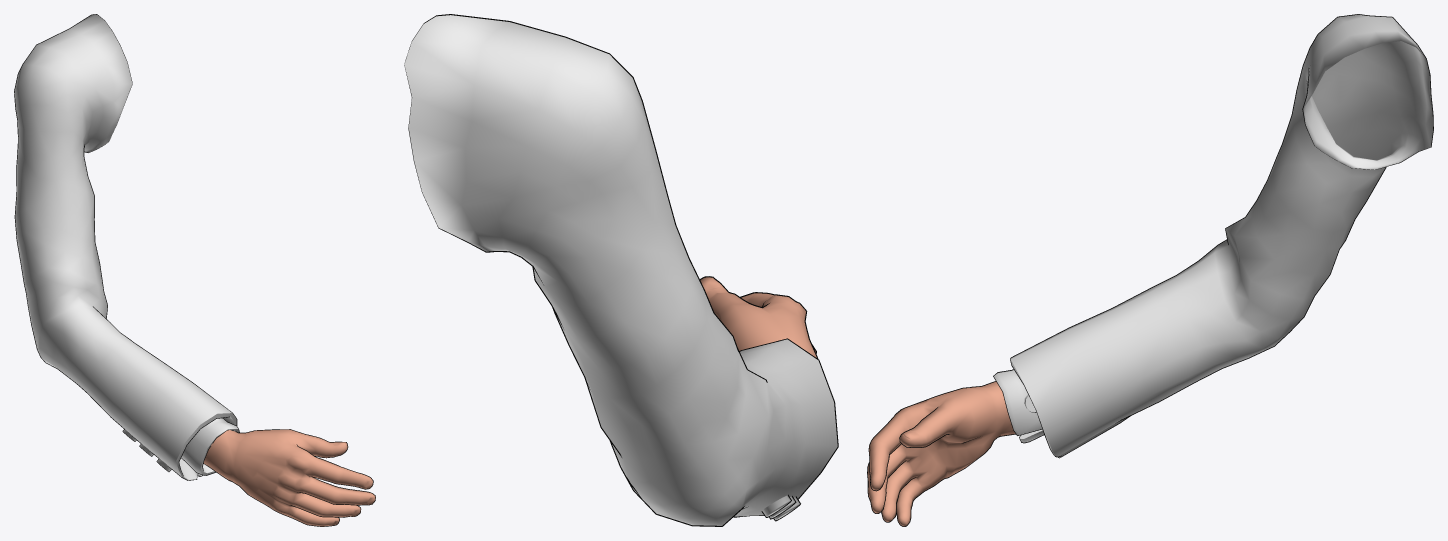
The model's file is ArmInstructions.fbx.
3 views of the same model, side by side, from view 1: azimuth 30°, elevation 25°; view 2: azimuth 150°, elevation 25°; view 3: azimuth 270°, elevation 25° (orthographic). The views are drawn at different scales.
Visible parts, largest first — view 1: DrawCall_0121.000; view 2: DrawCall_0121.000; view 3: DrawCall_0121.000.
Part boxes in pixels (<box>): DrawCall_0121.000: <box>14,14,375,526</box>; DrawCall_0121.000: <box>404,14,838,526</box>; DrawCall_0121.000: <box>867,14,1433,526</box>.
Bounding box in the file's own units: 428 × 824 × 912.
